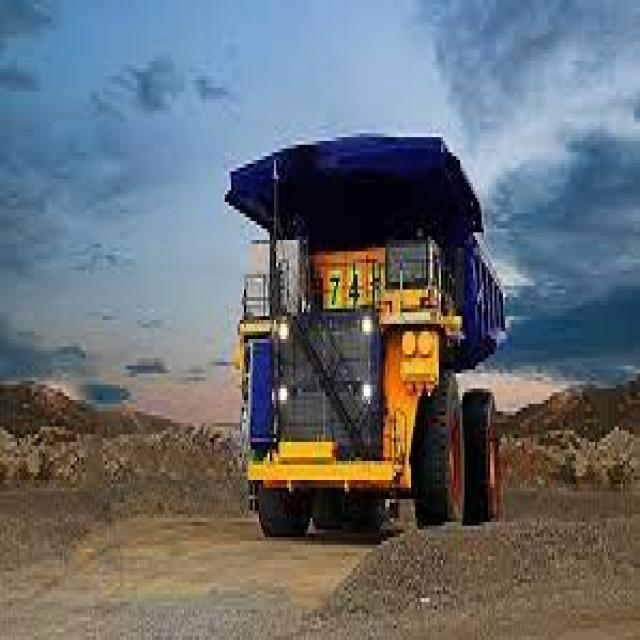dump_truck: (214, 118, 509, 560)
